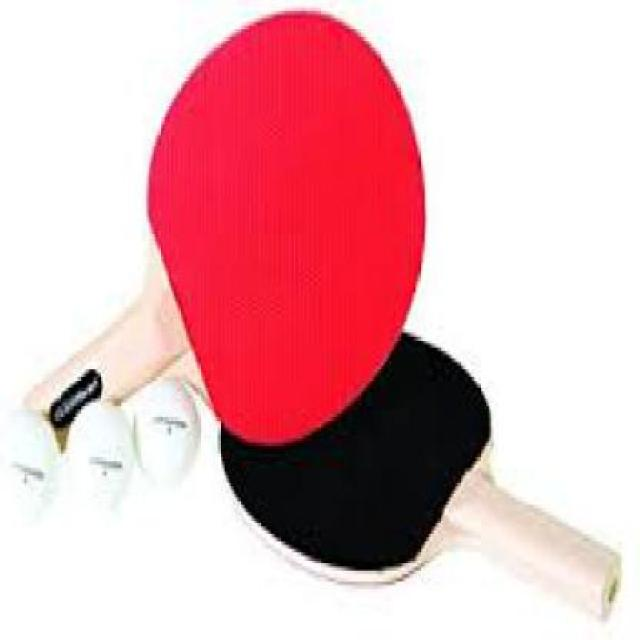table_tennis_racket: (140, 2, 432, 444), (212, 305, 513, 590)
